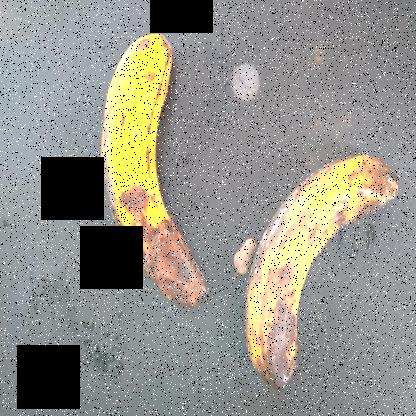rotten: (76, 1, 218, 329), (235, 155, 408, 400)
